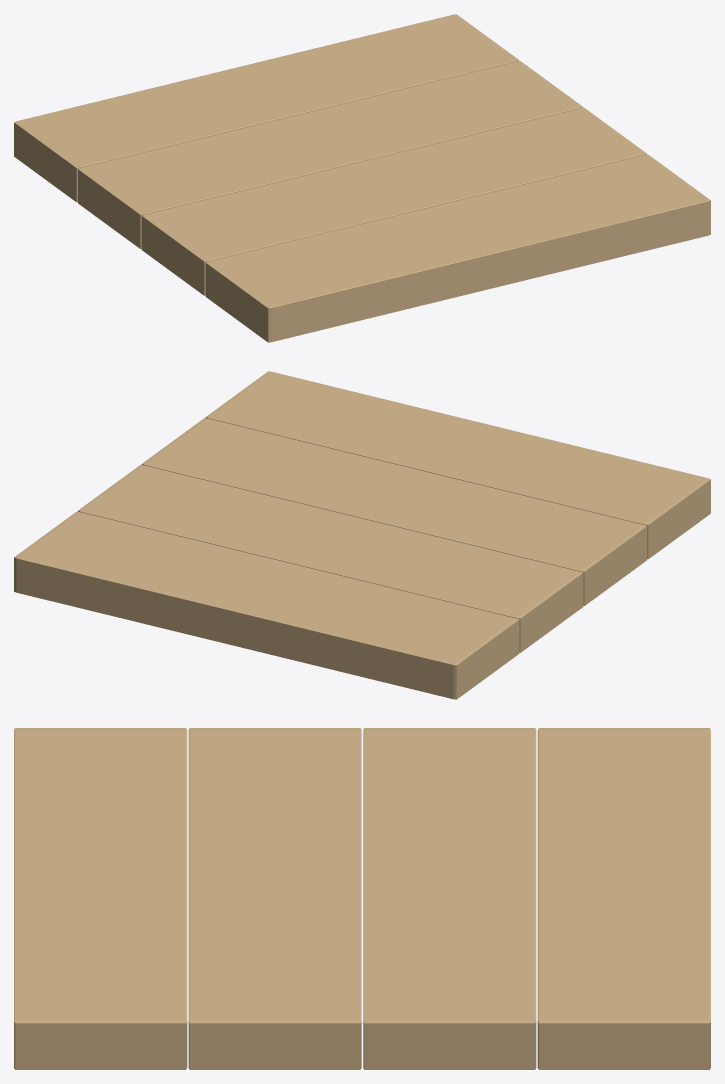
The model's file is floor_maple_2m.glb.
The picture shows the model from 3 angles, top to bottom: view 1: azimuth 30°, elevation 25°; view 2: azimuth 150°, elevation 25°; view 3: azimuth 270°, elevation 25°; orthographic projection. The views are drawn at different scales.
Visible parts, largest first — view 1: Maple plank.004, Maple plank.005, Maple plank.007, Maple plank.006; view 2: Maple plank.007, Maple plank.006, Maple plank.004, Maple plank.005; view 3: Maple plank.004, Maple plank.005, Maple plank.006, Maple plank.007.
Boxes of the visible parts, x1=… form: Maple plank.004: x1=205, y1=154, x2=710, y2=342; Maple plank.005: x1=141, y1=108, x2=646, y2=295; Maple plank.007: x1=14, y1=14, x2=519, y2=202; Maple plank.006: x1=78, y1=61, x2=583, y2=248; Maple plank.007: x1=14, y1=511, x2=519, y2=699; Maple plank.006: x1=78, y1=465, x2=583, y2=652; Maple plank.004: x1=205, y1=371, x2=710, y2=559; Maple plank.005: x1=141, y1=418, x2=646, y2=605; Maple plank.004: x1=14, y1=728, x2=187, y2=1069; Maple plank.005: x1=188, y1=728, x2=361, y2=1069; Maple plank.006: x1=363, y1=728, x2=536, y2=1069; Maple plank.007: x1=537, y1=728, x2=710, y2=1069.
Bounding box in the file's own units: 2 × 0.15 × 2.
